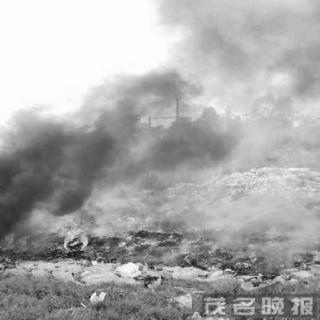Fire: (240, 248, 278, 276), (289, 250, 310, 267)
